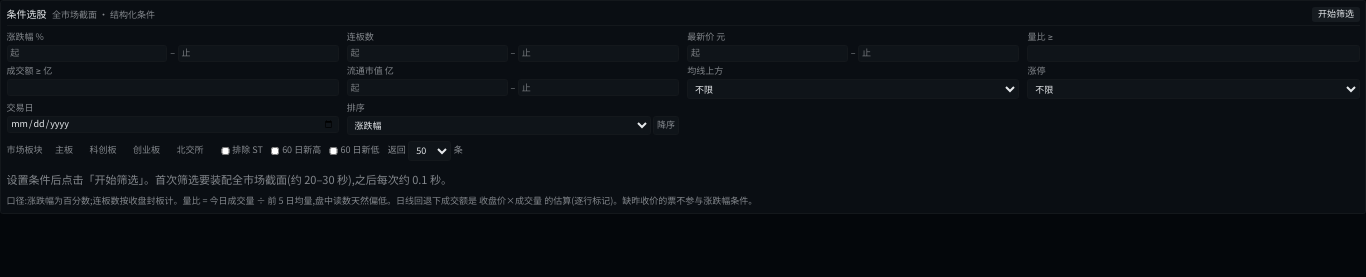
Test: AshareScreenPanel › marks a truncated result instead of silently showing a shorter list
What coordinates should you click on to do the following:
click the button with test id "screen-run"
I would click on:
 (1336, 14)
Its box is [1312,6,1360,22].
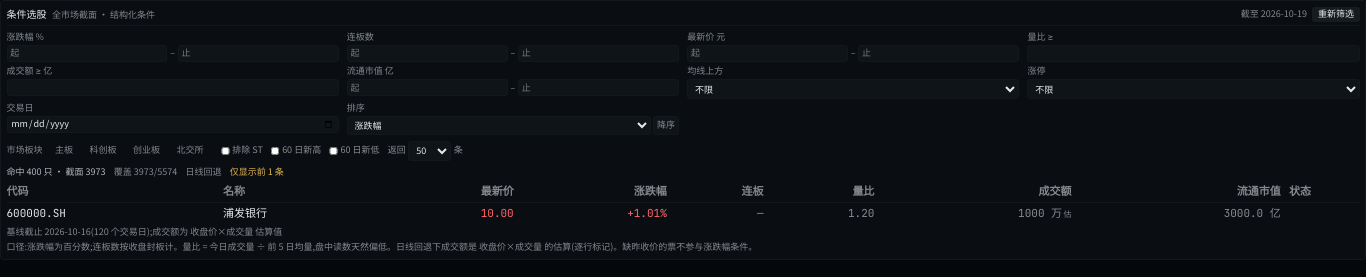
Now the button with test id "screen-run" reads "重新筛选", box [1312,6,1360,22]
Now the element with test id "screen-summary" shows "仅显示前 1 条", box [230,165,284,178]
